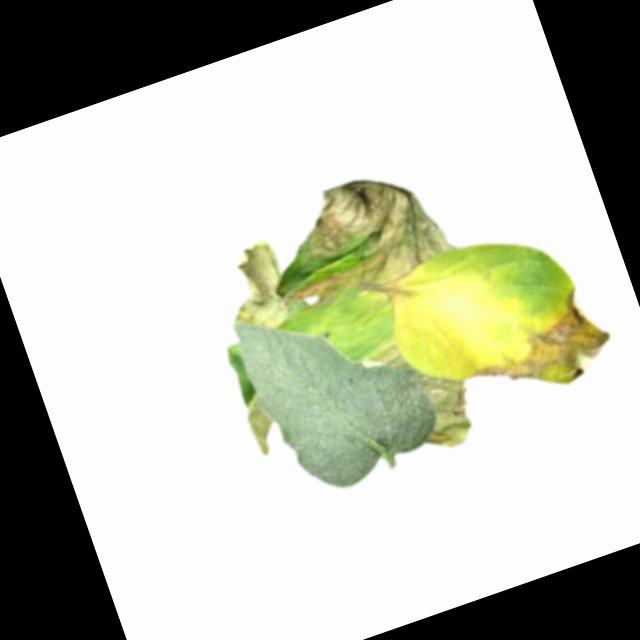Late_blight: (248, 152, 464, 321), (454, 280, 620, 412), (209, 231, 298, 339), (408, 375, 482, 456), (367, 328, 444, 401), (238, 391, 279, 457)
healthy: (232, 270, 449, 505)
